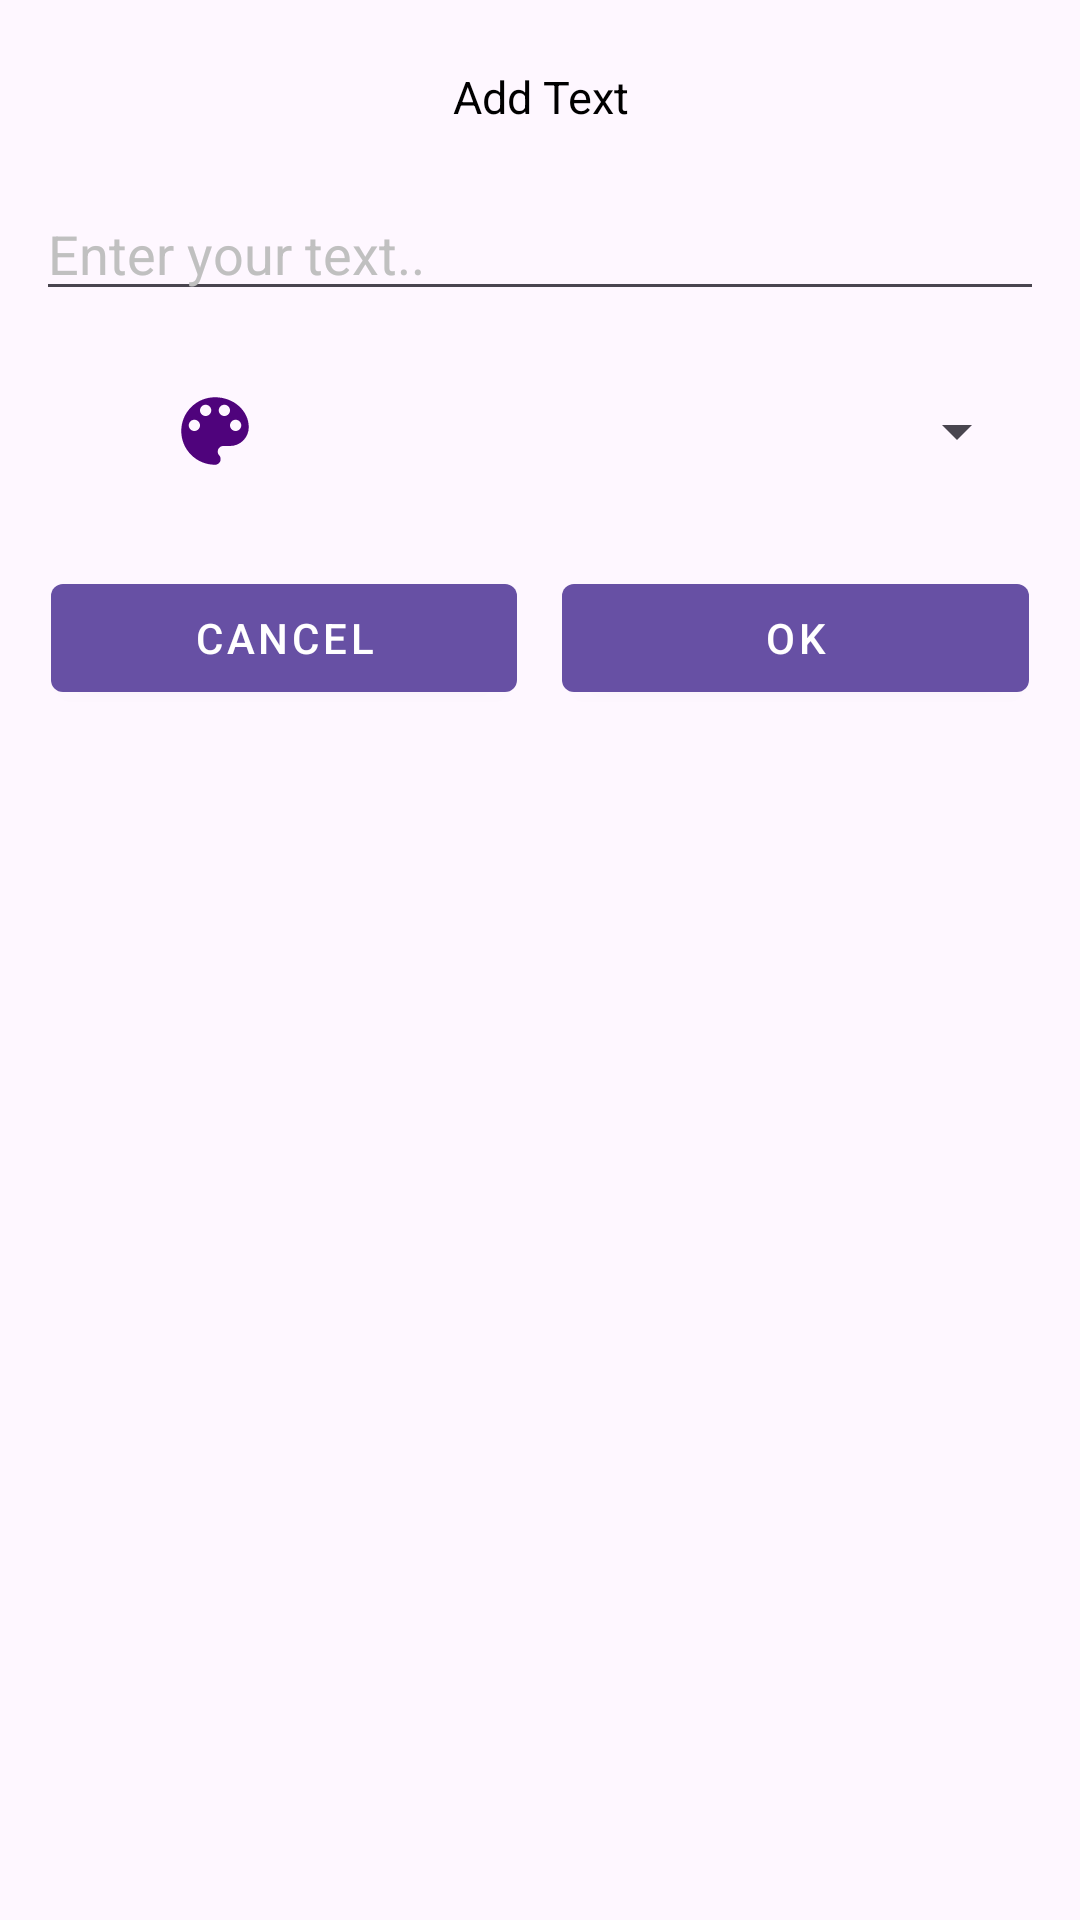

Icon click points for this 1080 x 1920 phone screenshot, format (x=x, y=y):
picker: (x=215, y=431)
